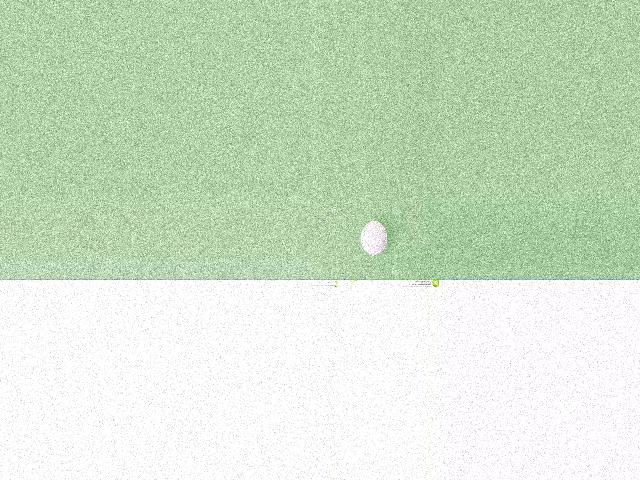egg: (360, 221, 387, 255)
